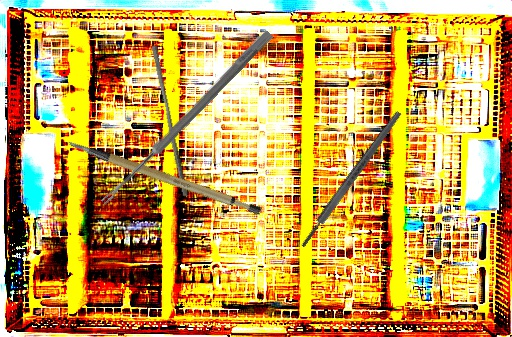Pusher: (145, 44, 195, 198)
Scalpel Handle: (66, 110, 264, 240), (298, 109, 404, 250)
Surgical Spoon: (99, 28, 274, 208)
